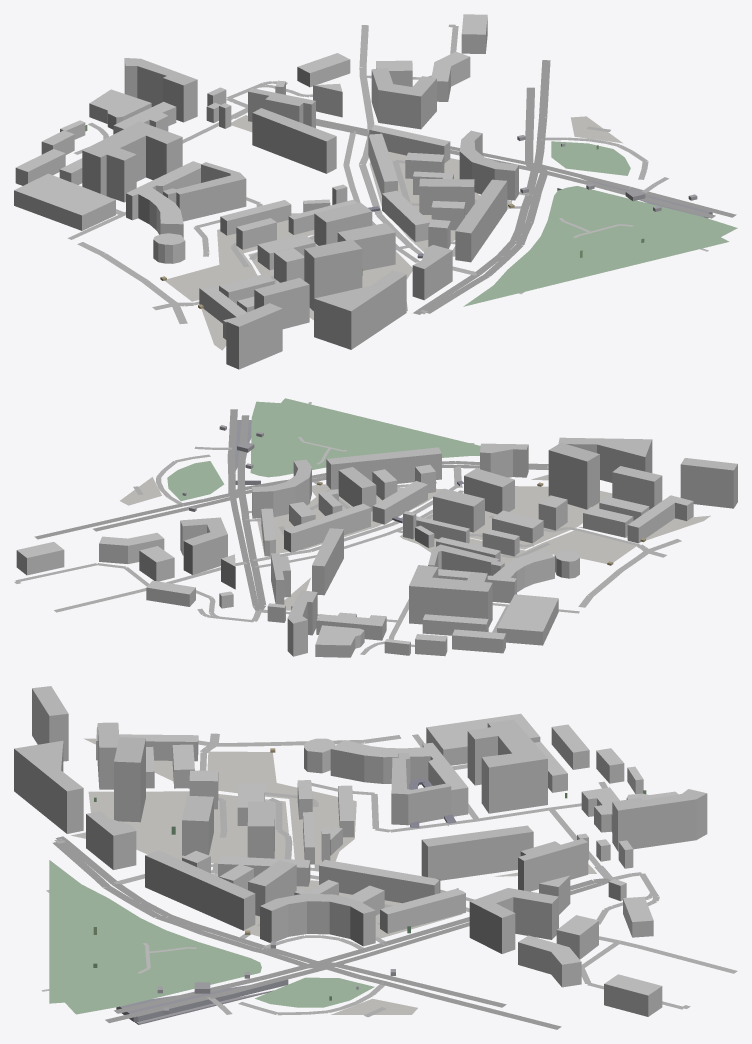
The picture shows the model from 3 angles, top to bottom: view 1: azimuth 30°, elevation 25°; view 2: azimuth 150°, elevation 25°; view 3: azimuth 270°, elevation 25°; orthographic projection. The views are drawn at different scales.
Bounding box in the file's own units: 539 × 63.35 × 553.
